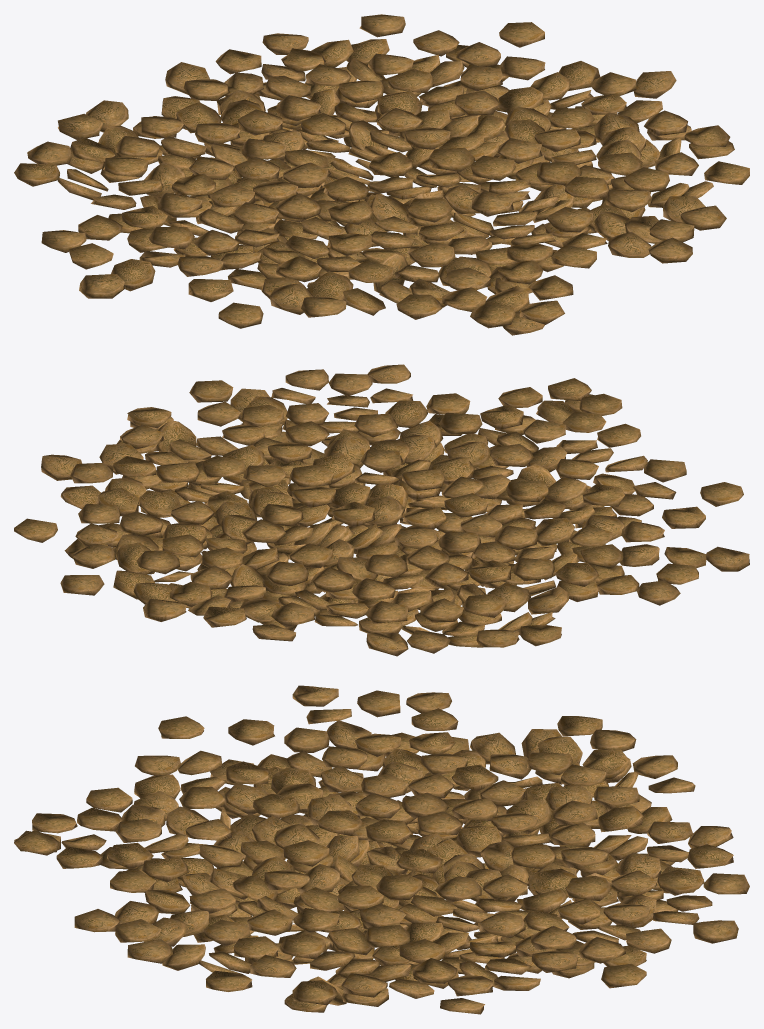
File: Ash_Mine_Coins.glb
3 renders of one model, top to bottom at view 1: azimuth 30°, elevation 25°; view 2: azimuth 150°, elevation 25°; view 3: azimuth 270°, elevation 25°, orthographic. The views are drawn at different scales.
Parts seen in each view (by area): view 1: coin_pile; view 2: coin_pile; view 3: coin_pile.
Part boxes in pixels (box(x1,y1,x2,y2)): coin_pile: box(14, 14, 749, 335); coin_pile: box(14, 364, 749, 656); coin_pile: box(14, 685, 749, 1014).
Size of the model in its own units: 1.14 by 0.0711 by 1.08.
1 material, 1 textured.
